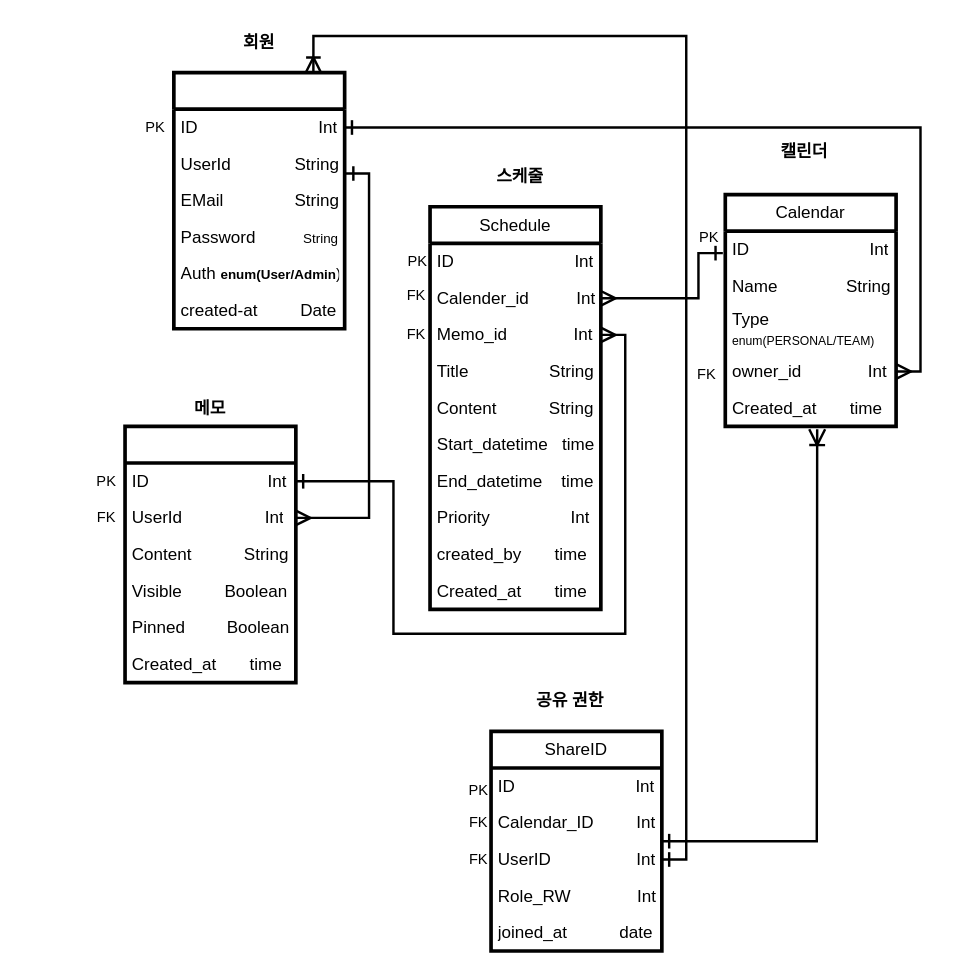
Some shapes in this 956 by 974 pixel diagram are drawn without their labels. Here are the shapes that lost their labels. From the top down, the box of each, then its label:
(171, 70, 346, 330): Menber
(123, 424, 297, 684): Memopost
